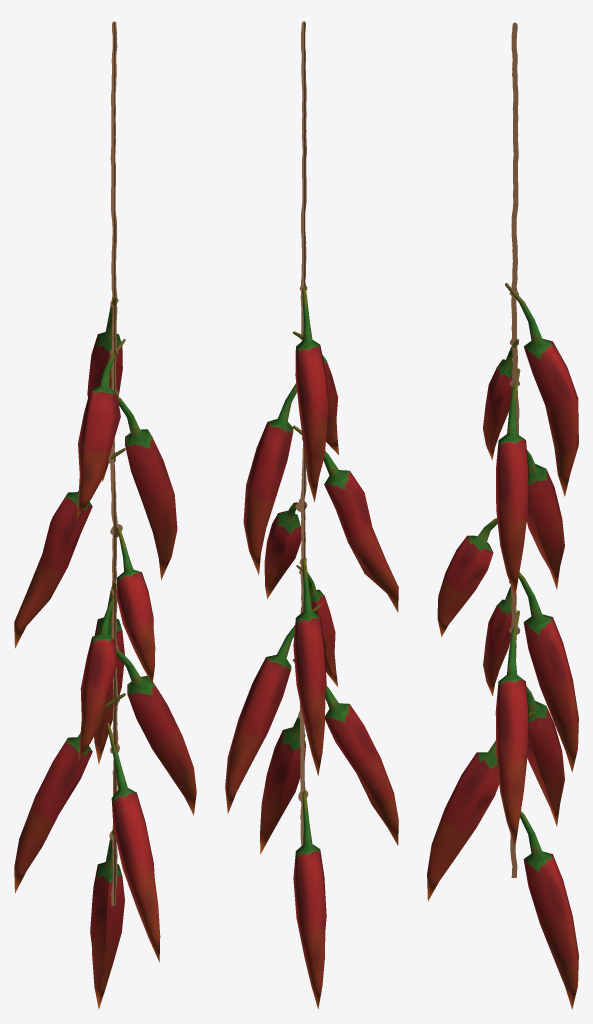
File: Chili.fbx
The picture shows the model from 3 angles, left to right: view 1: azimuth 30°, elevation 25°; view 2: azimuth 210°, elevation 25°; view 3: azimuth 270°, elevation 25°; orthographic projection. The views are drawn at different scales.
Visible parts, largest first — view 1: chili2; view 2: chili2; view 3: chili2.
Part boxes in pixels (box(x1,y1,x2,y2)): chili2: box(14, 21, 196, 1009); chili2: box(225, 21, 398, 1008); chili2: box(427, 22, 578, 1009).
Size of the model in its own units: 32.73 by 200 by 28.09.
1 material, 1 textured.
